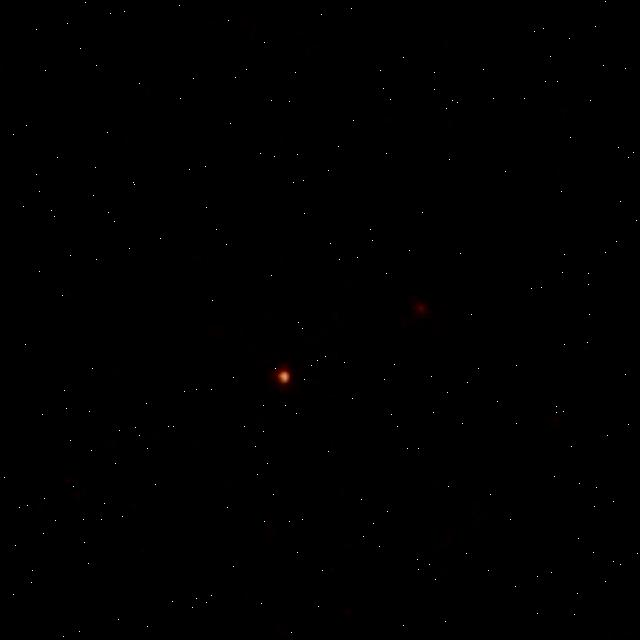microbeads: (268, 364, 292, 392)
